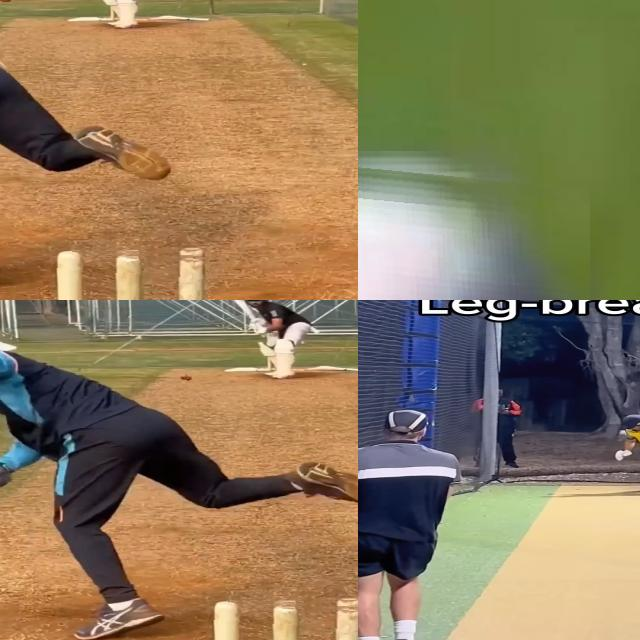Cricket ball: (358, 148, 589, 300), (51, 245, 209, 300), (207, 596, 358, 640), (181, 374, 192, 381), (619, 431, 627, 436)
